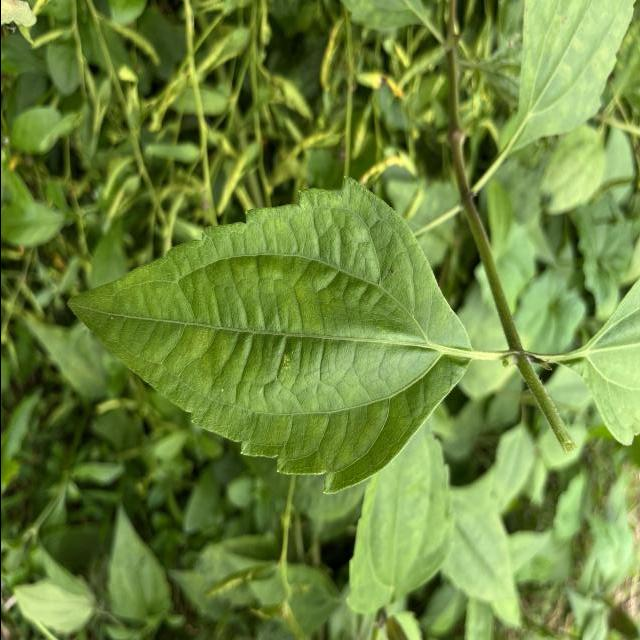Chromolaena odorata: (61, 170, 478, 498)
